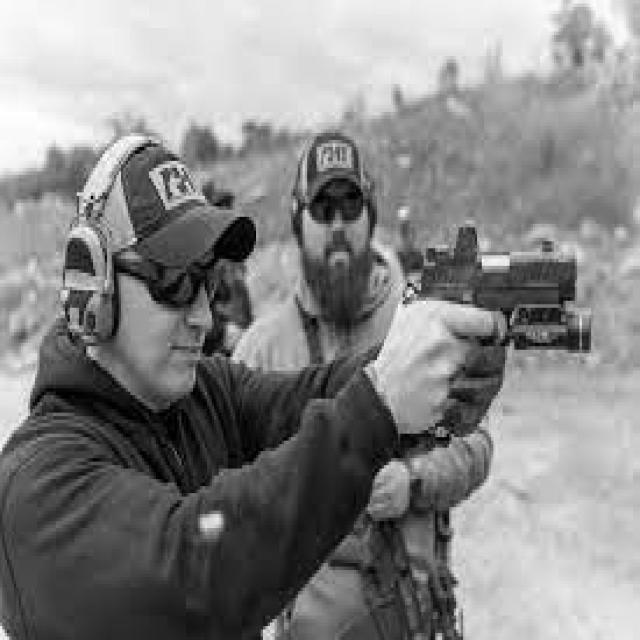gun: (401, 225, 592, 450)
